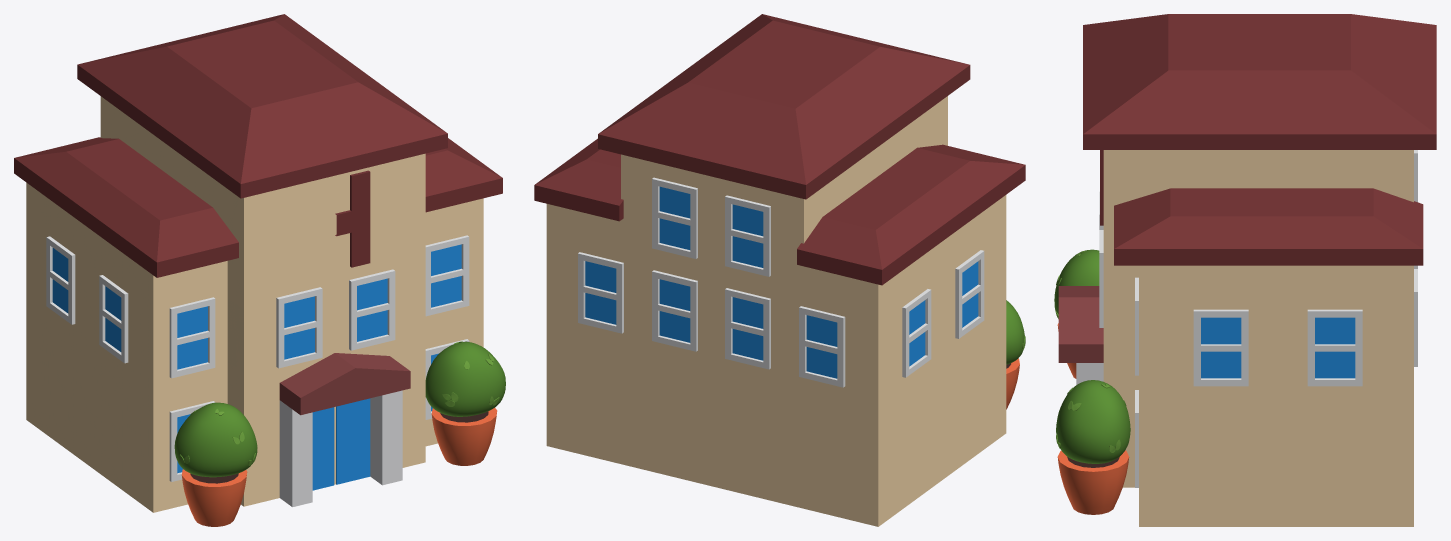
Rendered from hotel.glb.
3 views of the same model, side by side, from view 1: azimuth 30°, elevation 25°; view 2: azimuth 150°, elevation 25°; view 3: azimuth 270°, elevation 25° (orthographic). The views are drawn at different scales.
Visible parts, largest first — view 1: Cube.490, Cube.491; view 2: Cube.490; view 3: Cube.490.
Boxes of the visible parts, left/top/right/bottom form: Cube.490: left=14, top=14, right=505, bottom=526; Cube.491: left=335, top=170, right=370, bottom=267; Cube.490: left=534, top=14, right=1025, bottom=526; Cube.490: left=1054, top=14, right=1436, bottom=526.
Bounding box in the file's own units: 2.02 × 2.05 × 1.79.
Materials: 1 (1 with a texture image).
